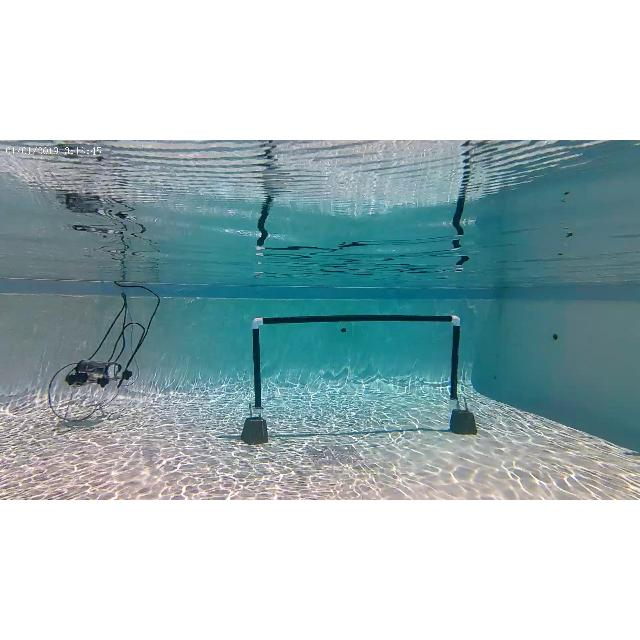prequal gate: (254, 313, 461, 415)
prequal gate leg l: (240, 313, 274, 445)
prequal gate leg r: (448, 308, 479, 436)
